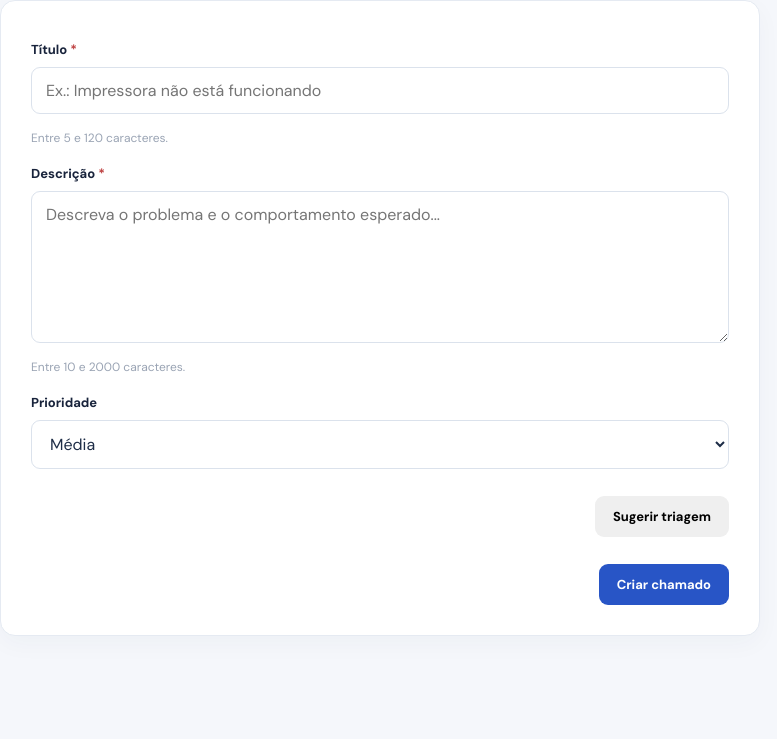
Test: TicketForm — triagem simulada › mostra falha e libera botão para tentar novamente
Type "Sistema fora do ar" into the field labelled "Título *" at (380, 90), box [31, 67, 729, 114]
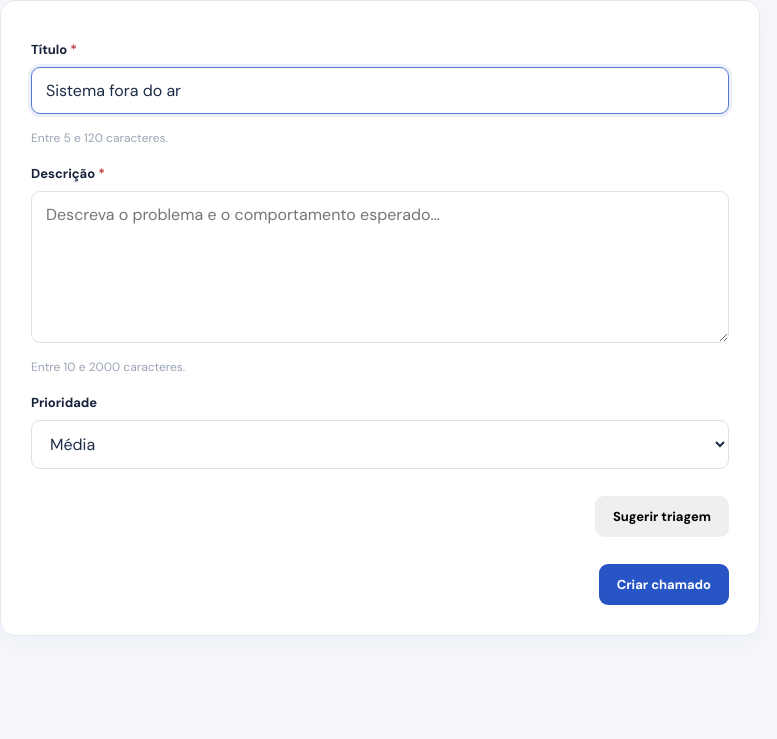
Type "Ninguém consegue emitir nota fiscal" into the text box labelled "Descrição *" at (380, 267), box [31, 191, 729, 343]
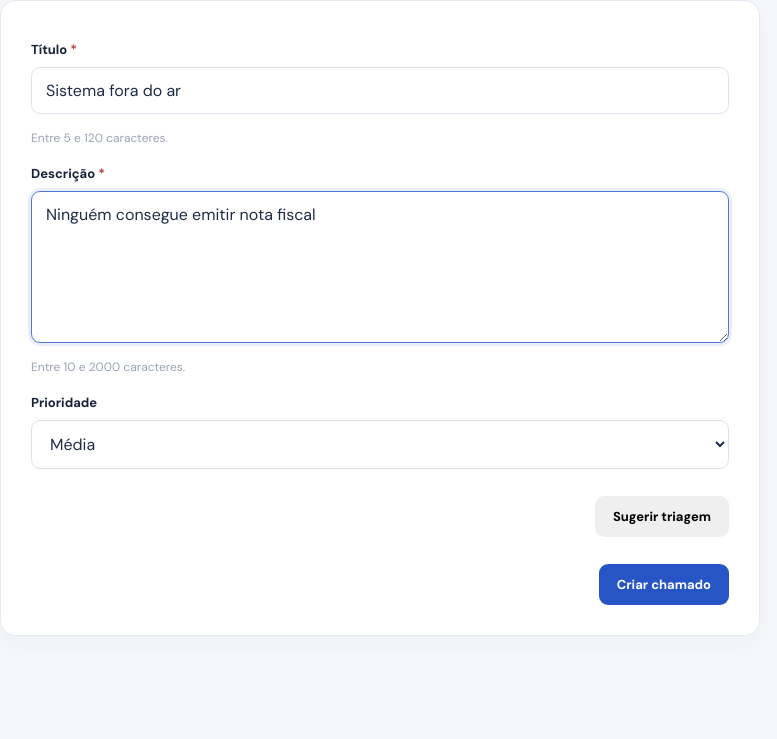
Click the button "Sugerir triagem" at (662, 516), box [595, 496, 729, 537]
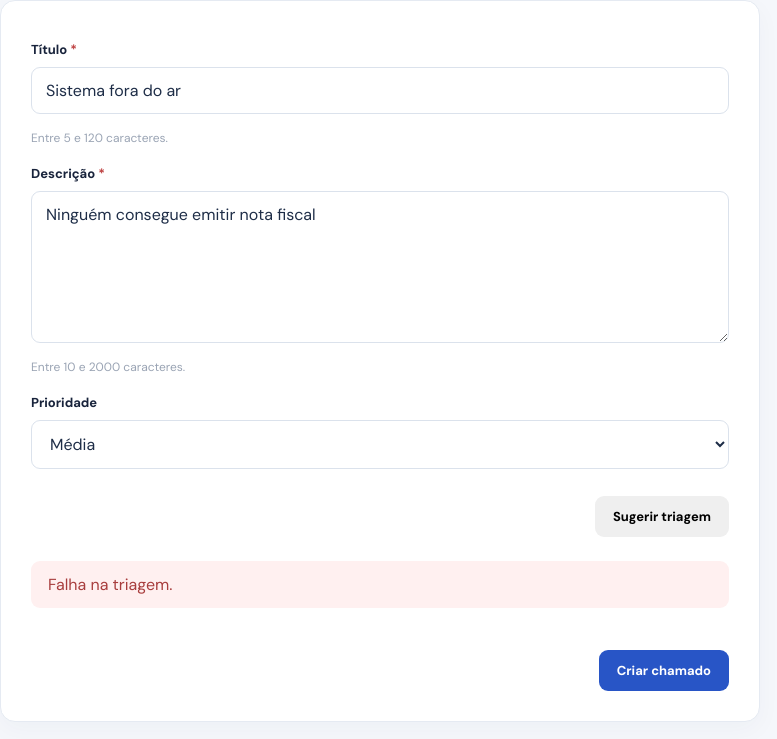
Now the message reads "Falha na triagem.", box [48, 574, 172, 595]
